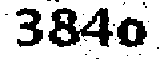3: (9, 7, 45, 50)
4: (80, 7, 115, 48)
8: (47, 8, 80, 51)
o: (117, 17, 148, 50)
